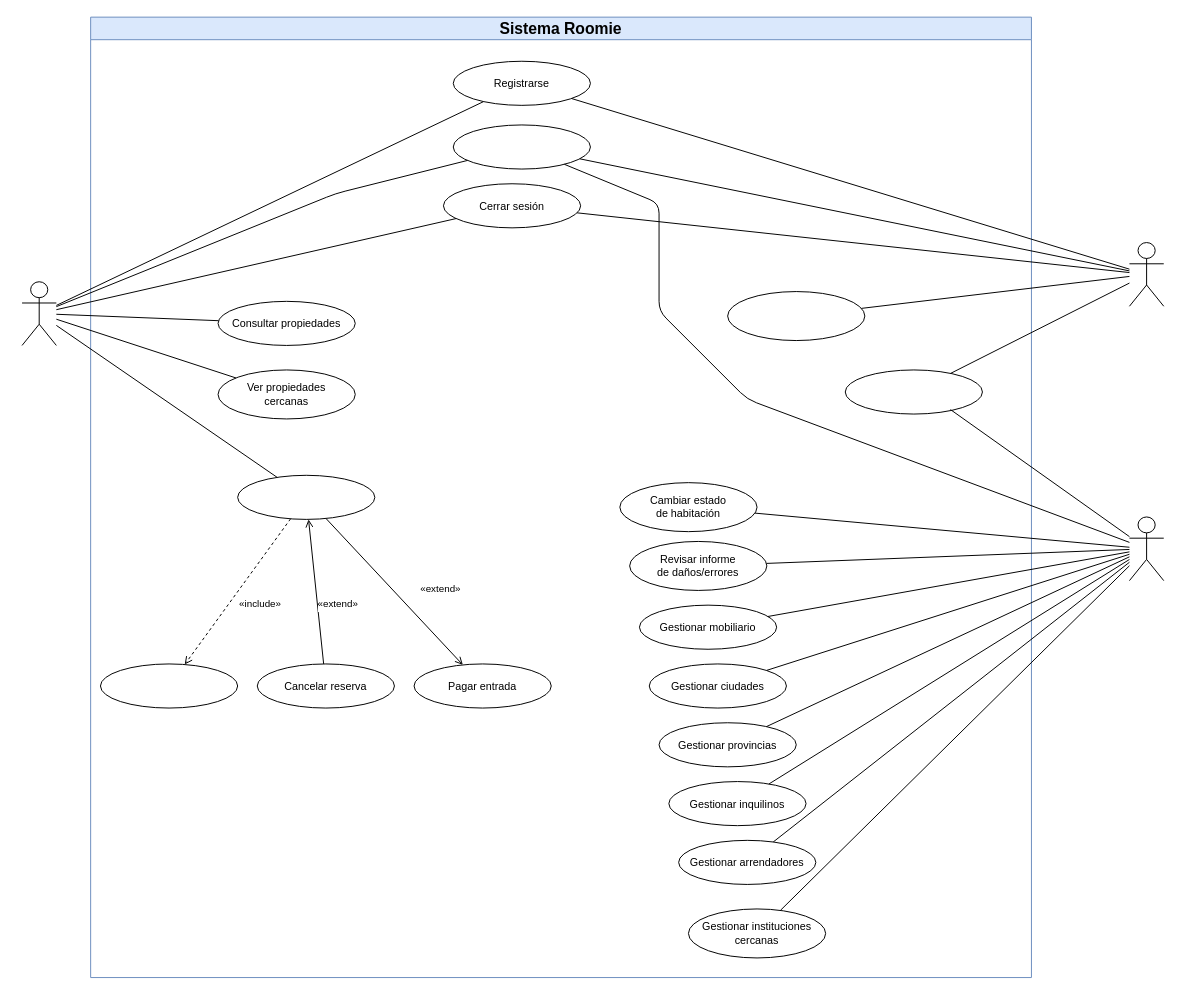
Some shapes in this 1200 by 995 pixel diagram are drawn without their labels. Each missing label, with the box of its shape:
Administrador: (1128, 516, 1164, 581)
Arrendador: (1128, 242, 1164, 306)
Enviar datos personales: (99, 663, 238, 708)
Gestionar habitaciones: (844, 369, 982, 414)
Iniciar sesión: (452, 124, 590, 169)
Inquilino: (21, 281, 56, 345)
Publicar anuncio (Propiedad): (727, 291, 865, 341)
Solicitar visita: (237, 474, 375, 519)
